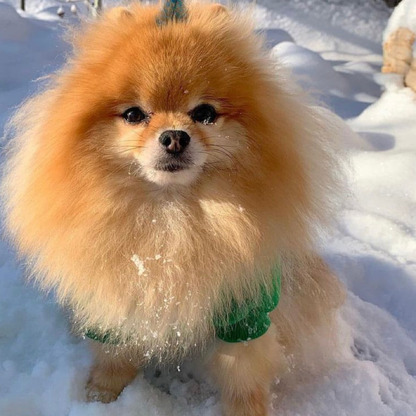Pomeranian: (43, 23, 369, 398)
